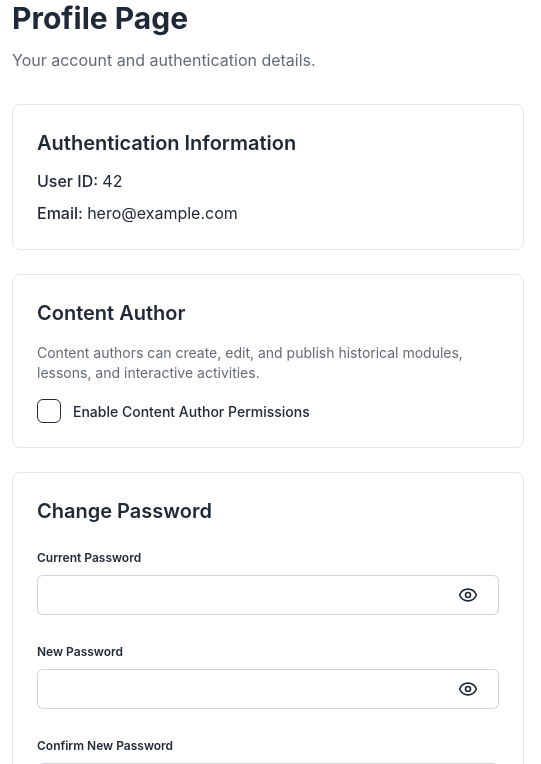
Scenario: ProfilePage › Change Password form › submits valid password change and shows success alert
Type "oldPassword123" into the password field labelled "Current Password" at (268, 595), box [37, 575, 499, 615]
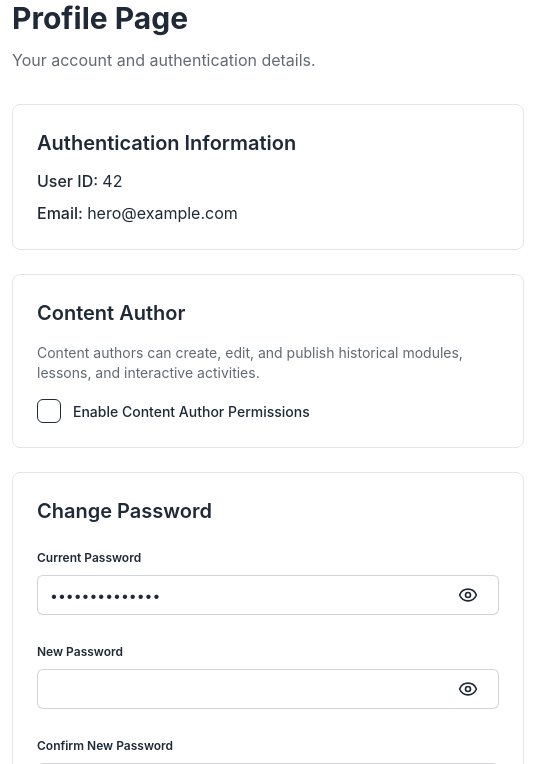
Type "newPassword123" into the password field labelled "New Password" at (268, 689), box [37, 669, 499, 709]
(page scrolled)
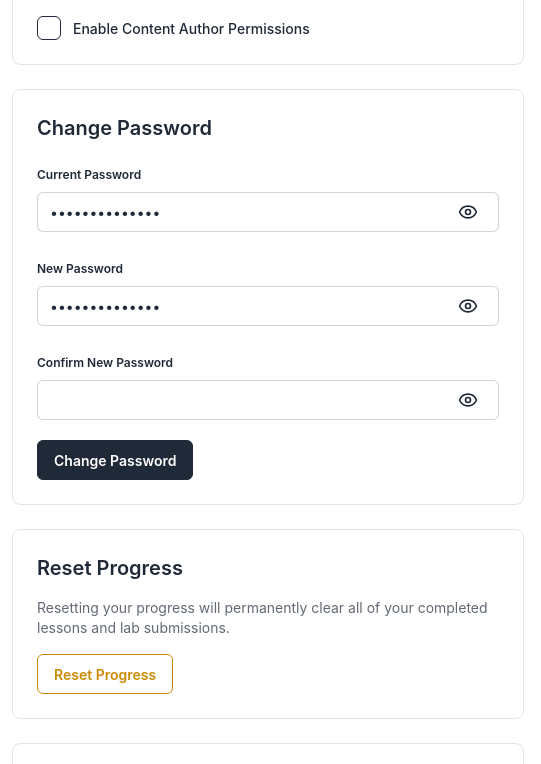
Type "newPassword123" into the password field labelled "Confirm New Password" at (268, 400), box [37, 380, 499, 420]
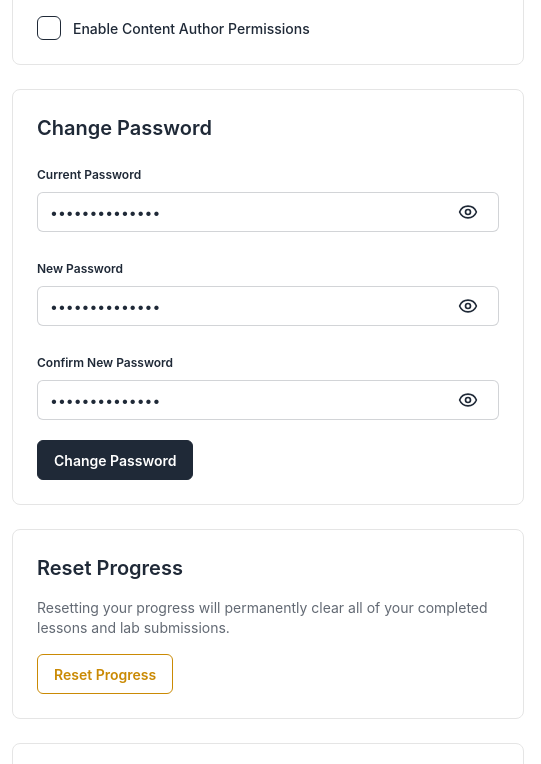
Click the button "Change Password" at (115, 460), box [37, 440, 193, 480]
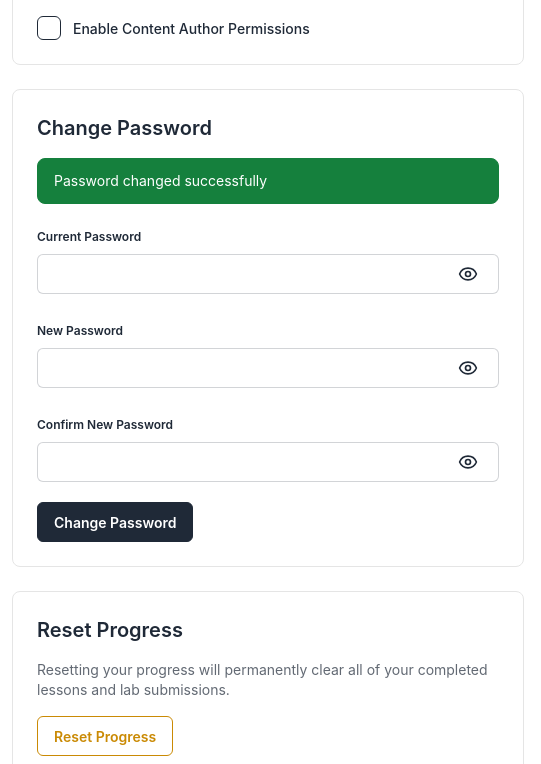
Expected: the text "Password changed successfully" is shown, [54, 171, 267, 191]
